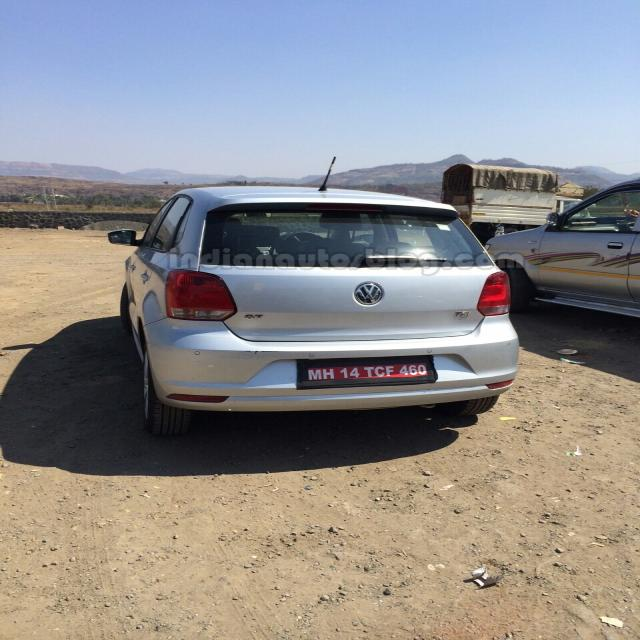number_plate: (304, 361, 434, 388)
